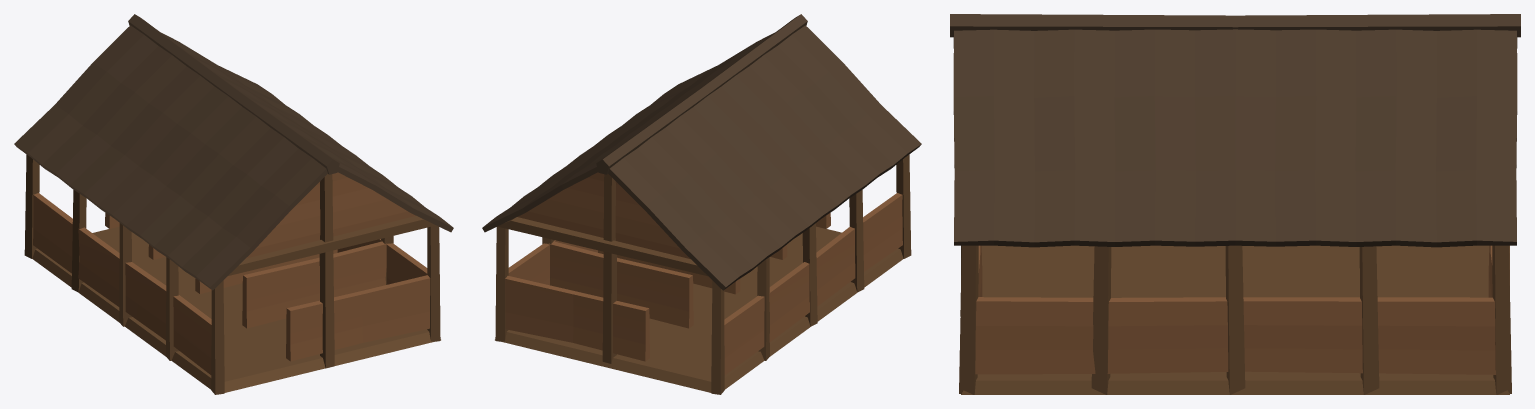
File: stables-medieval.glb
The picture shows the model from 3 angles, left to right: view 1: azimuth 30°, elevation 25°; view 2: azimuth 150°, elevation 25°; view 3: azimuth 270°, elevation 25°; orthographic projection. The views are drawn at different scales.
Visible parts, largest first — view 1: stables-medieval; view 2: stables-medieval; view 3: stables-medieval.
Part boxes in pixels (box(x1,y1,x2,y2)): stables-medieval: box(14, 14, 453, 394); stables-medieval: box(482, 14, 921, 394); stables-medieval: box(950, 14, 1520, 394).
Bounding box in the file's own units: 5.98 × 4.93 × 8.43.
Materials: 1 (1 with a texture image).
